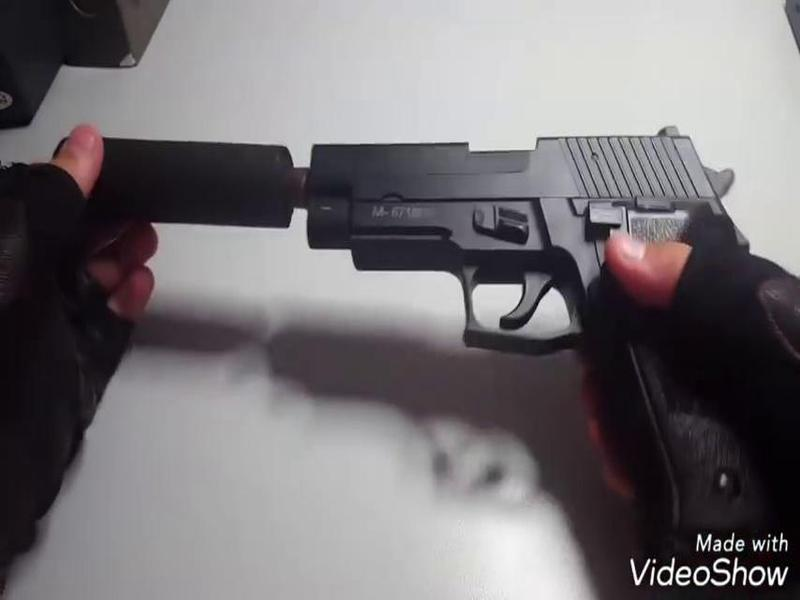Pistola: (302, 130, 800, 539)
